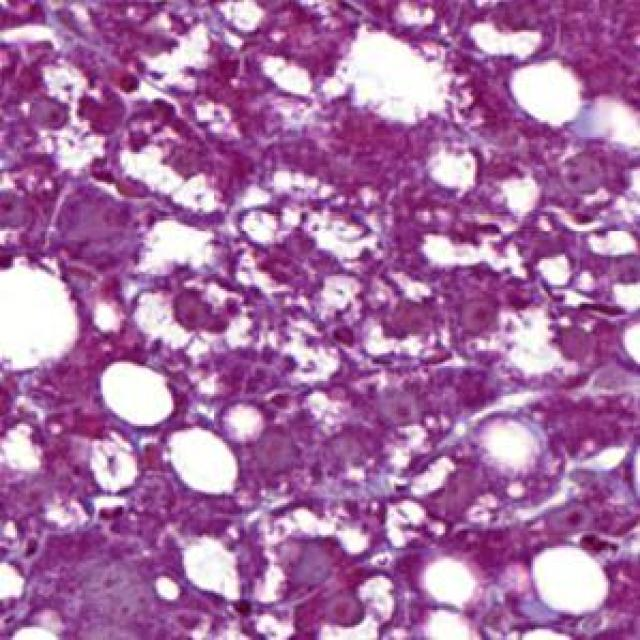steatosis: (533, 540, 610, 618), (102, 358, 176, 428)
